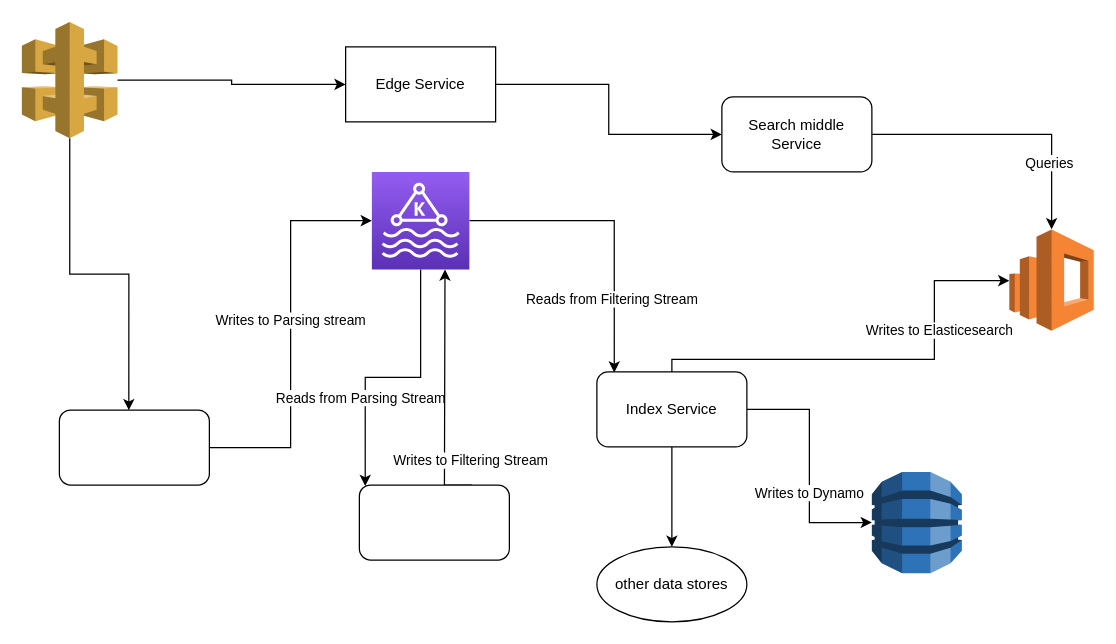
This 1116x644 diagram has some shape labels left out. The centre of each missing label's shape, as x and y in pixels:
"Filtering Service" goes at [433,522].
"Parsing Service" goes at [133,447].
